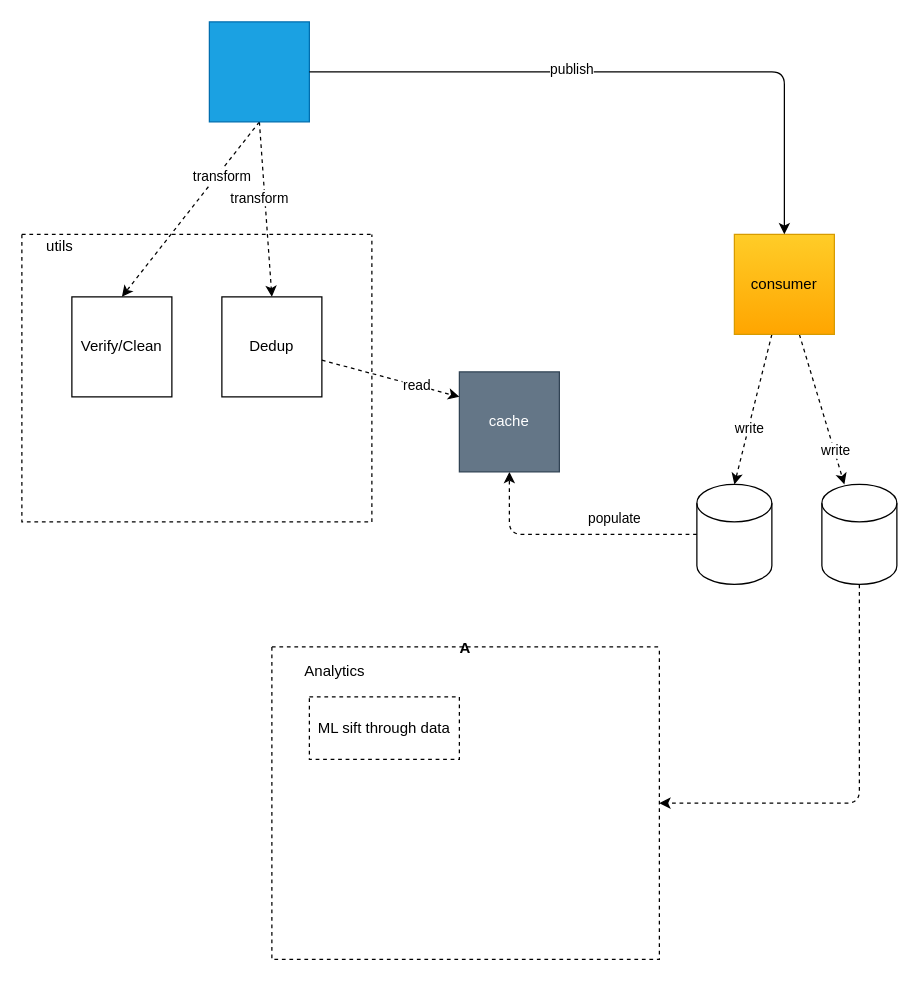
Some shapes in this 919 by 981 pixel diagram are drawn without their labels. The box of each missing label's shape, as (x1, y1, x2, y2) in pixels:
csv: (696, 483, 772, 584)
nosql: (821, 483, 897, 584)
scraper: (208, 21, 309, 122)
